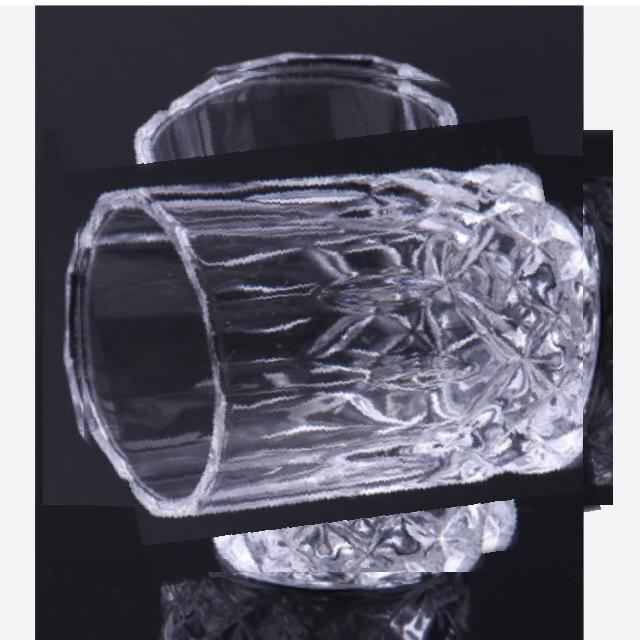recyclable: (73, 62, 583, 572)
